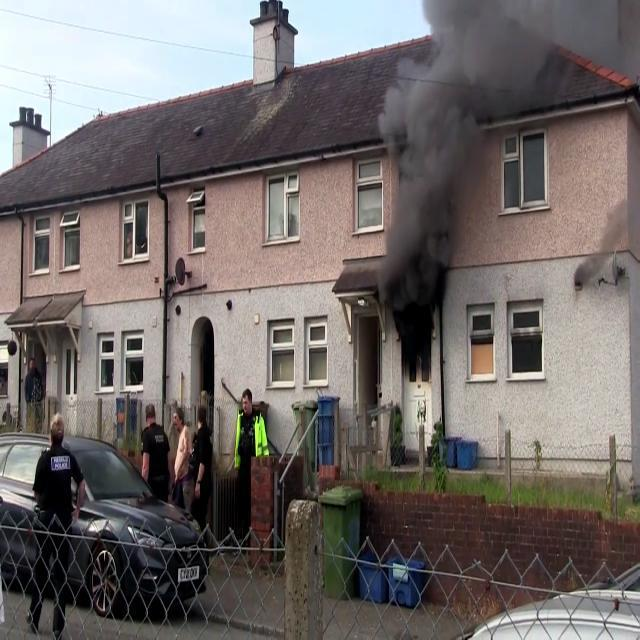Smoke: (374, 0, 545, 298)
